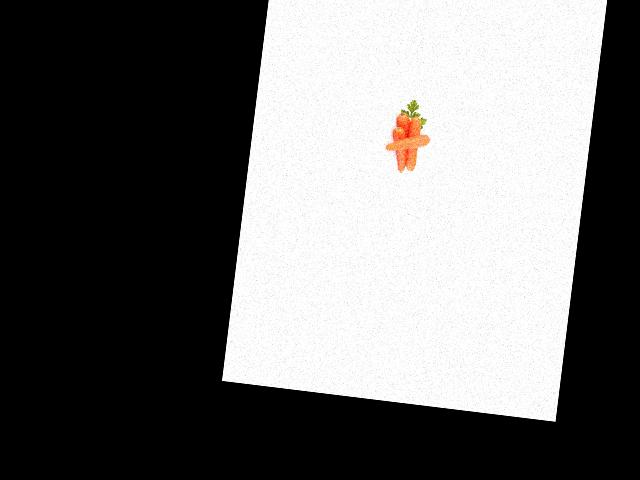carrot: (390, 112, 414, 165)
